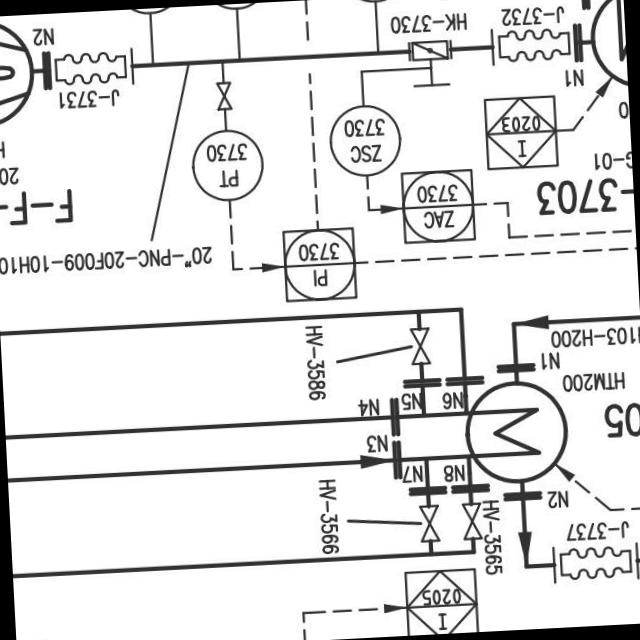BV: (402, 34, 457, 96)
EJ: (488, 20, 578, 72), (550, 537, 640, 588), (50, 46, 142, 94)
GV: (408, 326, 436, 368), (462, 501, 488, 545), (416, 504, 444, 544), (212, 76, 235, 115)
HE: (462, 376, 576, 488)
